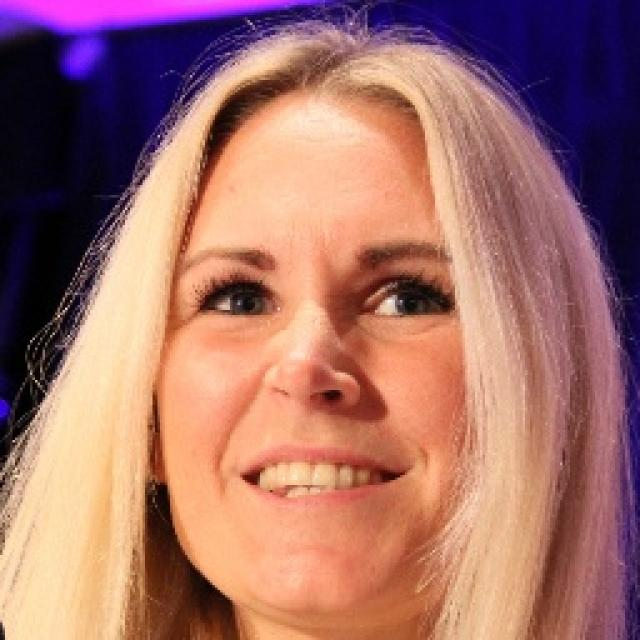eye: (363, 283, 440, 318), (204, 290, 274, 318)
nose: (271, 388, 352, 446)
